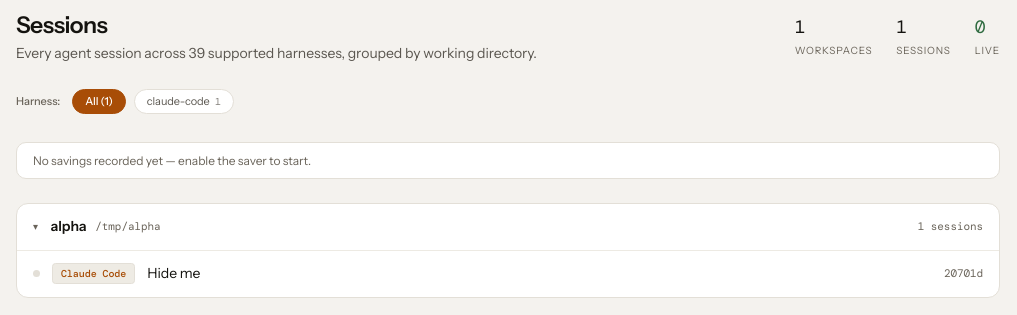
Test: WorkspaceSessionList › hides a group's sessions when its collapse toggle is clicked
This screenshot has width=1017, height=315.
Expected: the text "Hide me" is shown, [147,264,200,282]
Click the button "▾ alpha /tmp/alpha 1 sessions".
click(69, 226)  # box [17,204,999,250]
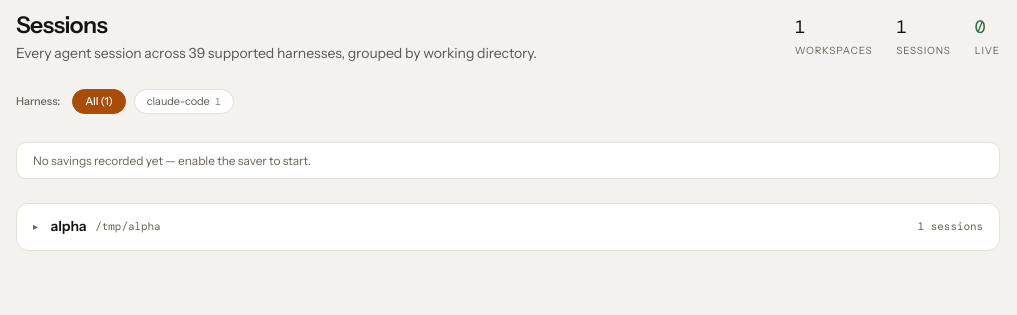
Expected: the button "Hide me" is gone
